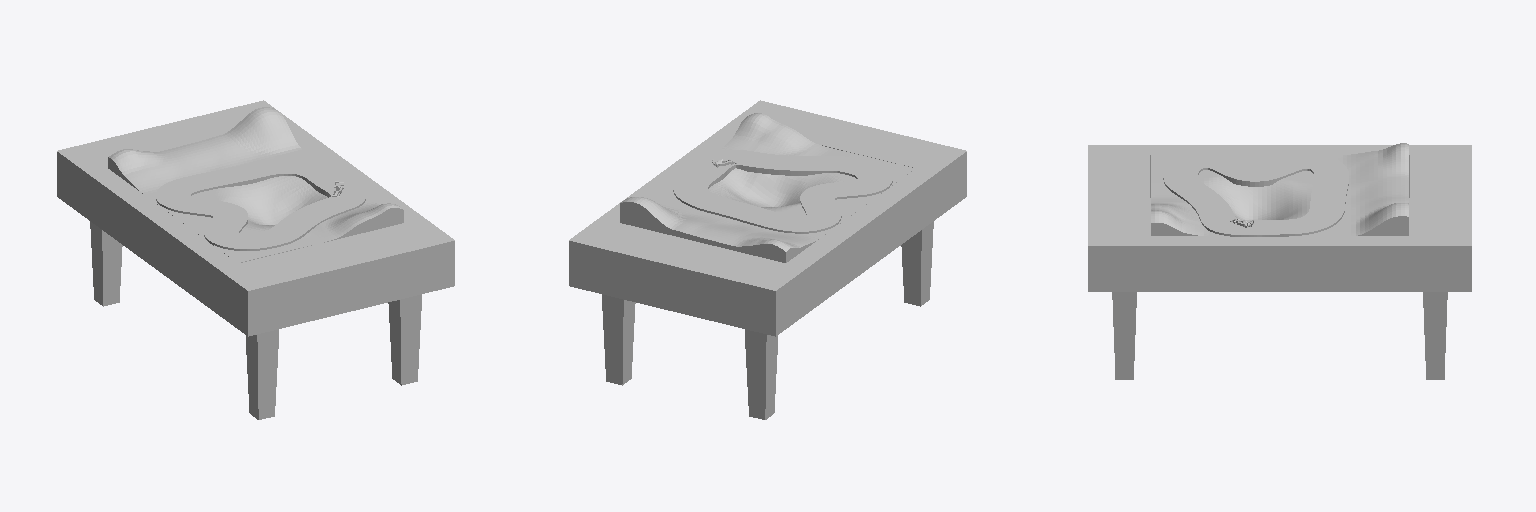
Rendered from NewestTisch30.obj.
3 renders of one model, left to right at view 1: azimuth 30°, elevation 25°; view 2: azimuth 150°, elevation 25°; view 3: azimuth 270°, elevation 25°, orthographic.
Parts seen in each view (by area): view 1: Tischplatte_wood_table_001, Landschaft_aerial_grass_rock, off, Bein1_wood_table_001, Bein4_wood_table_001.003, Bein3_wood_table_001.002; view 2: Tischplatte_wood_table_001, Landschaft_aerial_grass_rock, off, Bein2_wood_table_001.001, Bein3_wood_table_001.002, Bein4_wood_table_001.003; view 3: Tischplatte_wood_table_001, Landschaft_aerial_grass_rock, off, Bein1_wood_table_001, Bein2_wood_table_001.001.
Part boxes in pixels (x1,y1,x2,y2): Tischplatte_wood_table_001: (57,100,454,336); Landschaft_aerial_grass_rock: (108,107,403,262); off: (156,159,365,250); Bein1_wood_table_001: (388,294,421,385); Bein4_wood_table_001.003: (246,329,278,419); Bein3_wood_table_001.002: (90,221,122,306); Tischplatte_wood_table_001: (569,100,966,336); Landschaft_aerial_grass_rock: (620,113,915,262); off: (673,150,892,233); Bein2_wood_table_001.001: (602,294,635,385); Bein3_wood_table_001.002: (745,329,777,419); Bein4_wood_table_001.003: (901,221,933,306); Tischplatte_wood_table_001: (1088,145,1471,291); Landschaft_aerial_grass_rock: (1151,143,1408,235); off: (1163,153,1348,236); Bein1_wood_table_001: (1112,292,1136,379); Bein2_wood_table_001.001: (1423,292,1447,379).
Bounding box in the file's own units: 5 × 3.91 × 8.